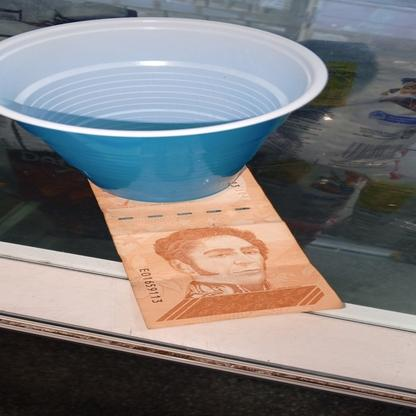twenty-front-vef: (87, 163, 346, 329)
